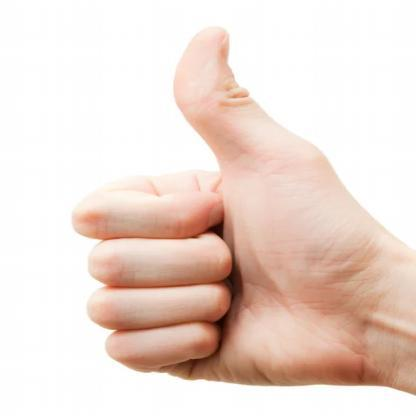thumb_up: (67, 26, 374, 390)
